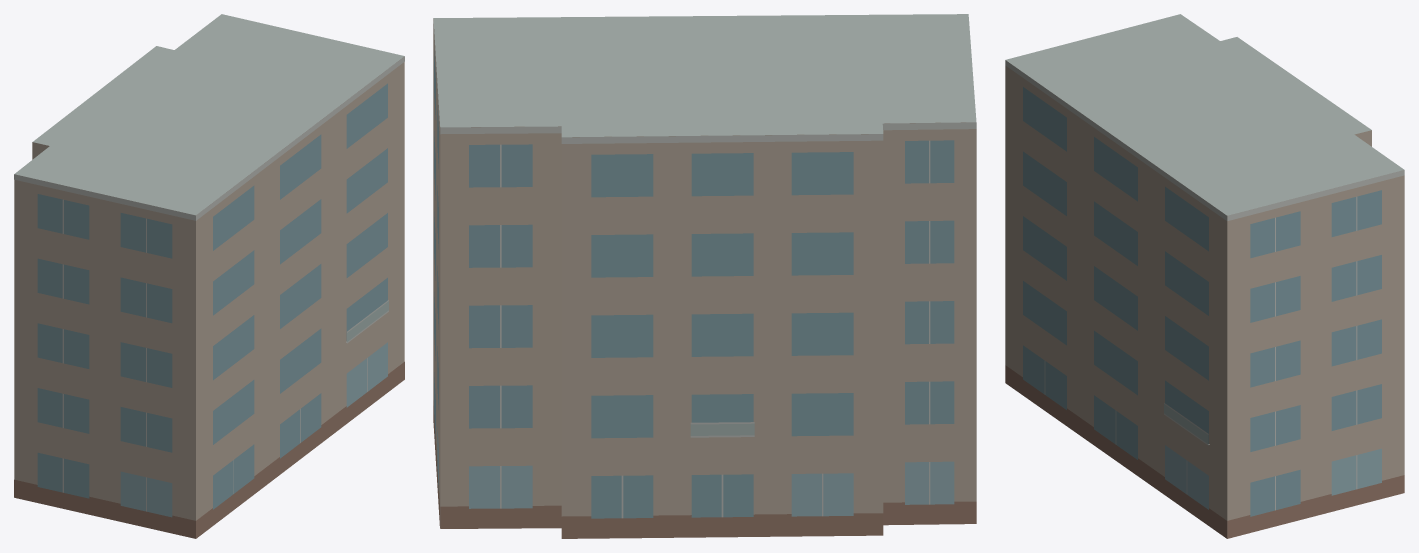
File: survey-upis-32859732.glb
The picture shows the model from 3 angles, left to right: view 1: azimuth 30°, elevation 25°; view 2: azimuth 150°, elevation 25°; view 3: azimuth 270°, elevation 25°; orthographic projection. The views are drawn at different scales.
Parts seen in each view (by area): view 1: survey-upis-32859732.tmp; view 2: survey-upis-32859732.tmp; view 3: survey-upis-32859732.tmp.
Boxes of the visible parts, left/top/right/bottom form: survey-upis-32859732.tmp: left=14, top=14, right=404, bottom=538; survey-upis-32859732.tmp: left=433, top=14, right=976, bottom=538; survey-upis-32859732.tmp: left=1005, top=14, right=1404, bottom=538.
Bounding box in the file's own units: 19.29 × 14.4 × 16.14.
